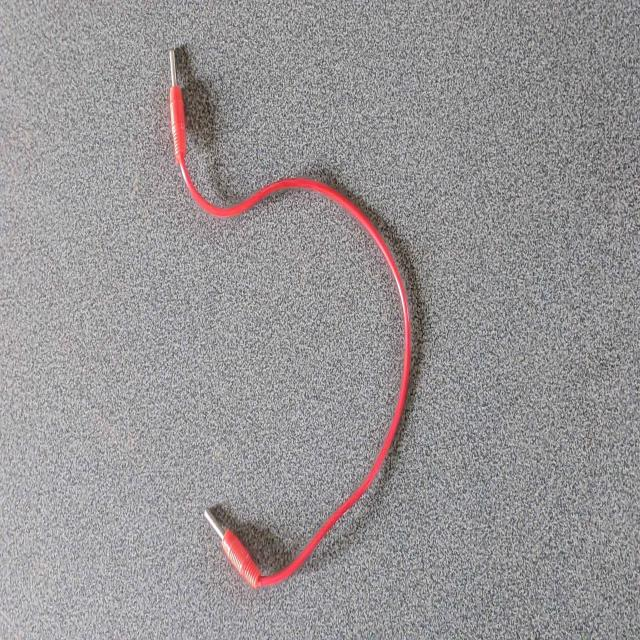BNC Cable: (158, 29, 417, 598)
